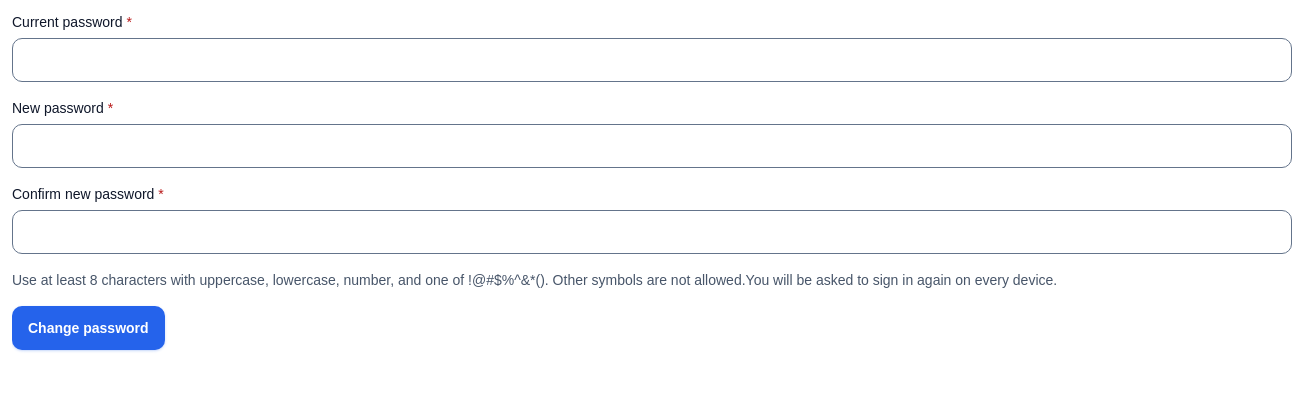
ChangePasswordForm › rejects special characters that the server does not support
This screenshot has width=1304, height=395.
Type "123qwe" into the password field labelled "Current password" at (652, 60), box [12,38,1292,82]
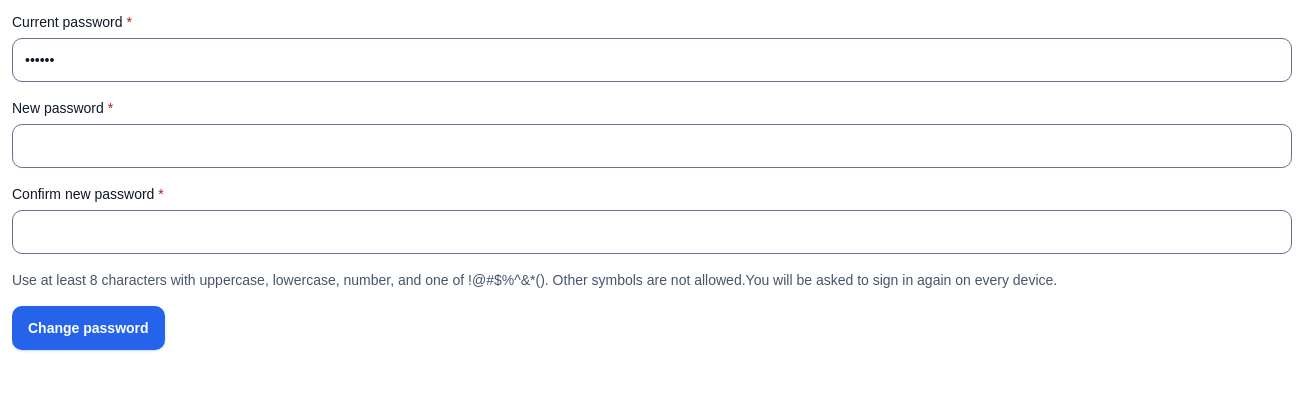
Type "PrivatePassword123?" into the password field labelled "New password" at (652, 146), box [12,124,1292,168]
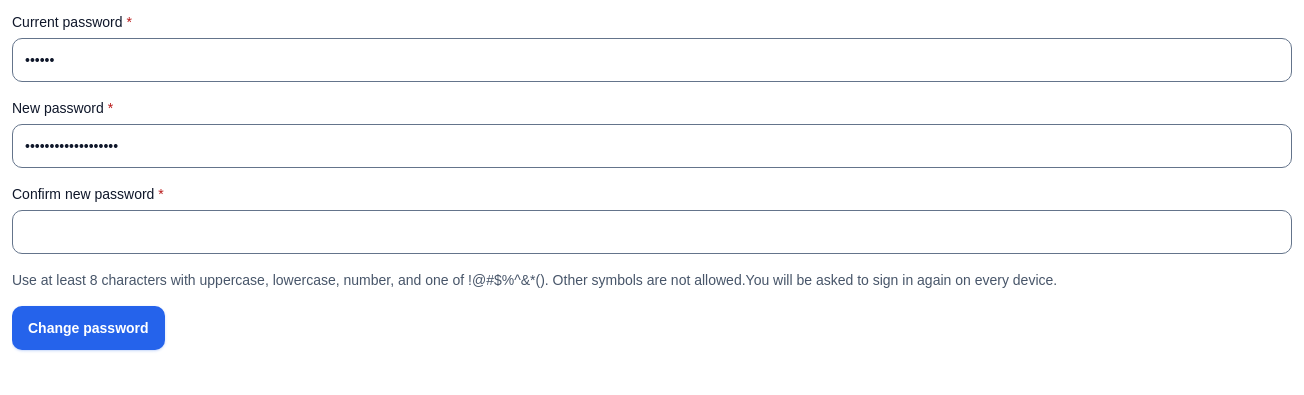
Type "PrivatePassword123?" into the password field labelled "Confirm new password" at (652, 232), box [12,210,1292,254]
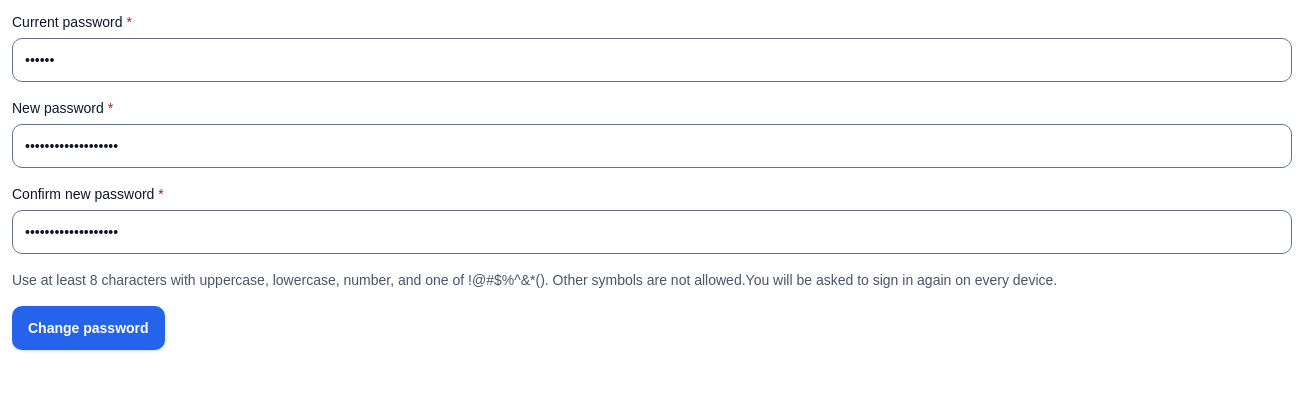
Click the button "Change password" at (88, 328), box [12,306,165,350]
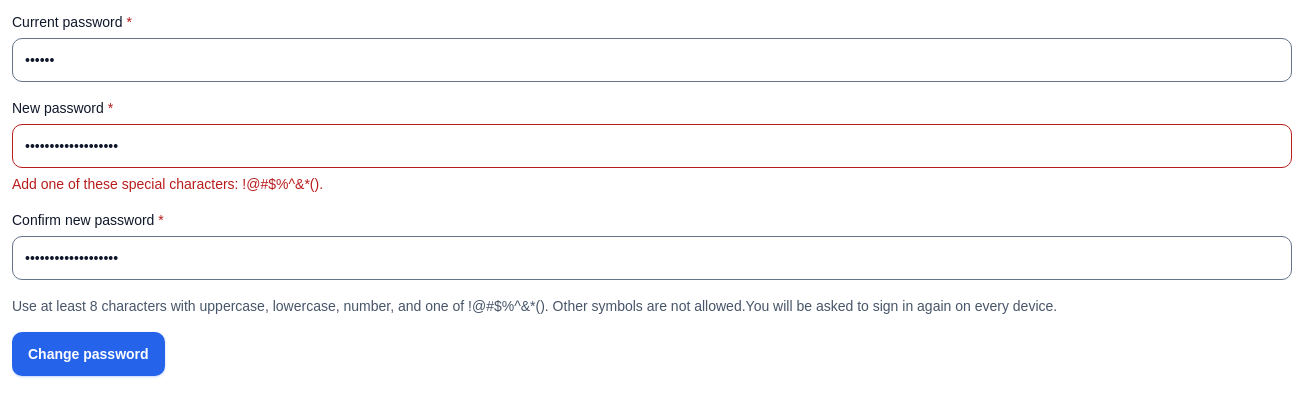
Expected: the text "Add one of these special characters: !@#$%^&*()." is shown, [12,176,323,192]
